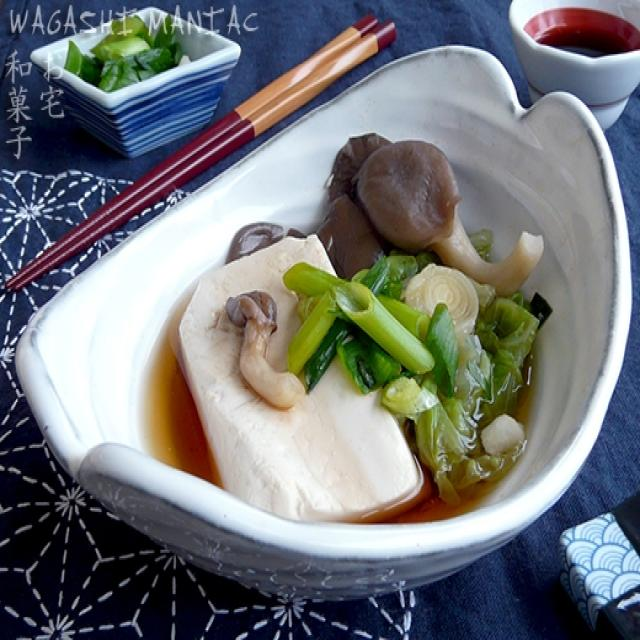豆腐料理: (138, 121, 551, 538)
